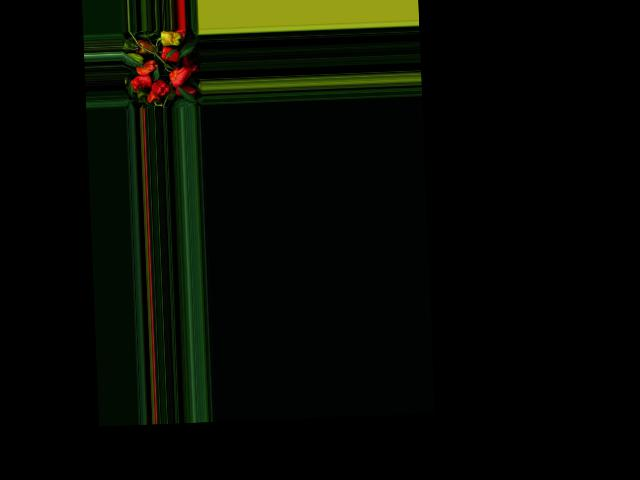bell_pepper: (146, 91, 157, 104)
